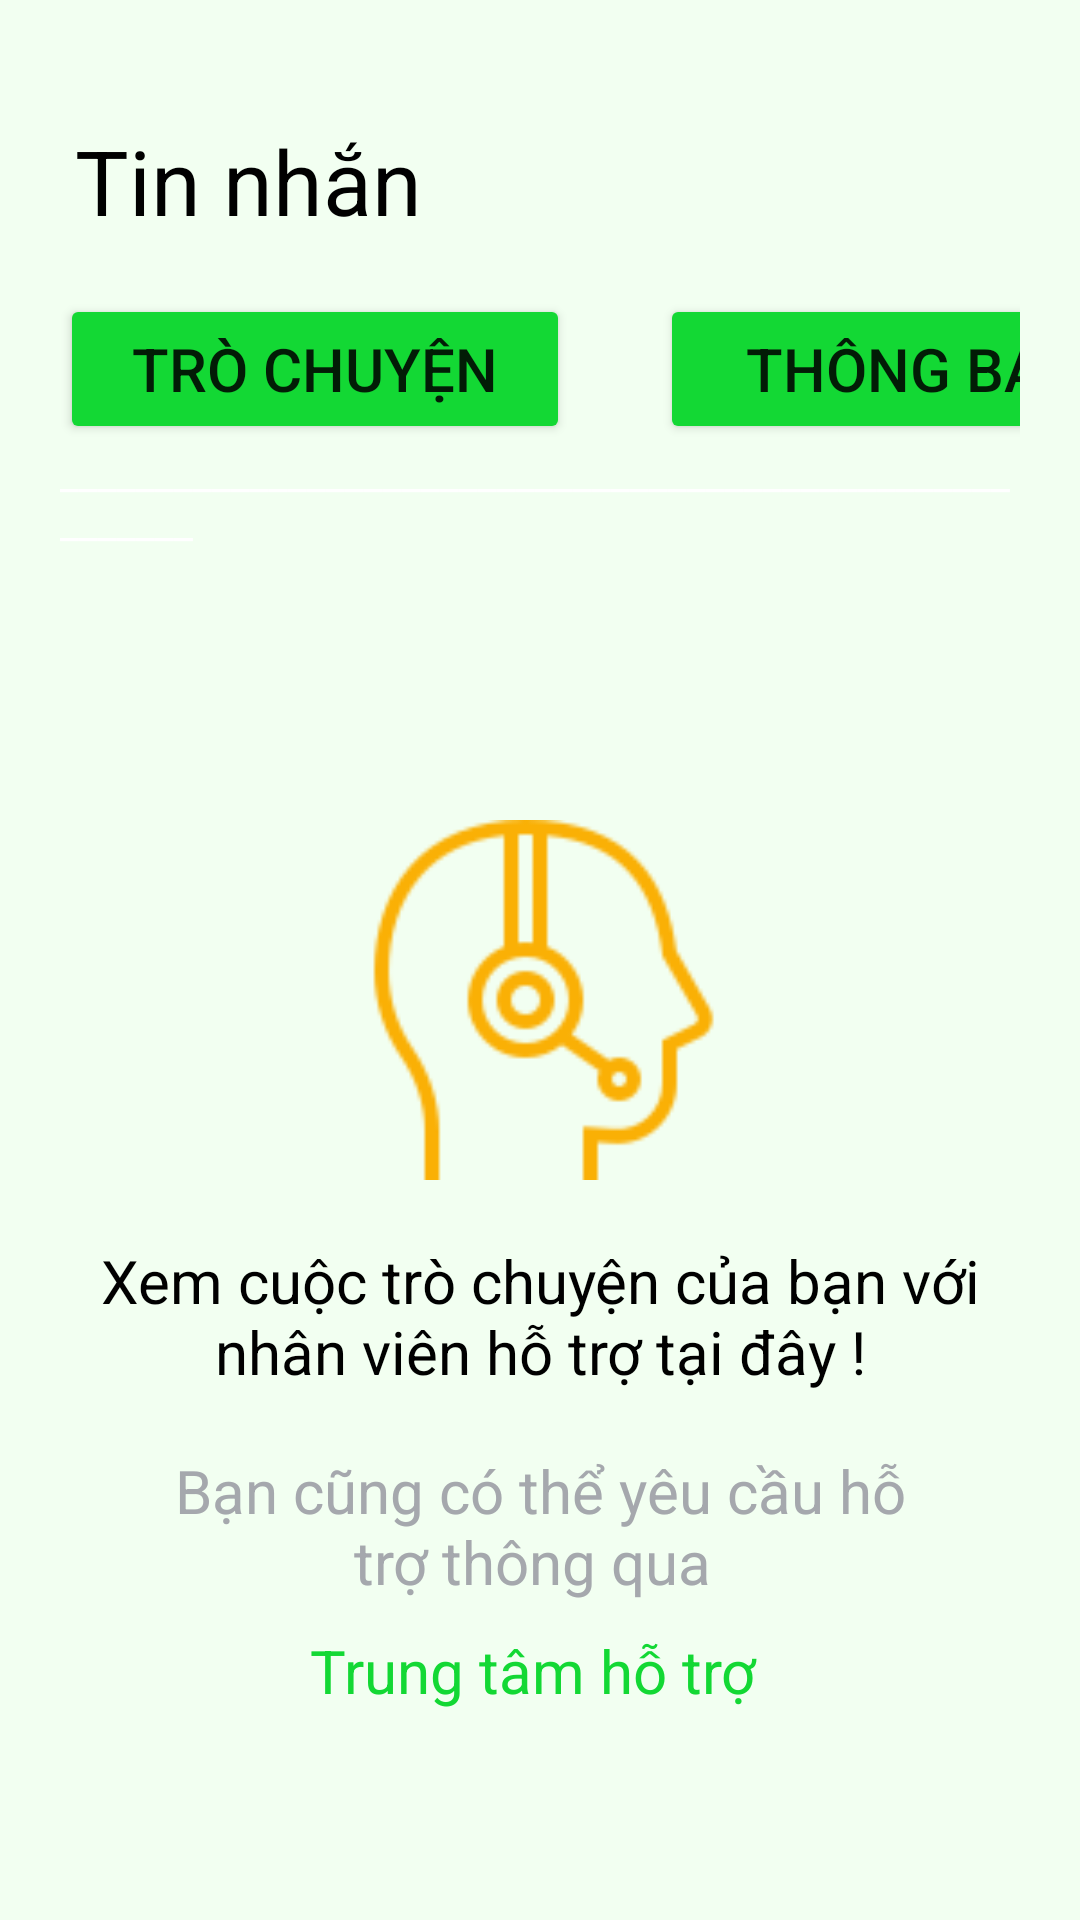

Locate icon controls on the screen. Image size 1080 × 1920, boxes as (x1, y1, x2, y2).
support: (373, 820, 714, 1180)
